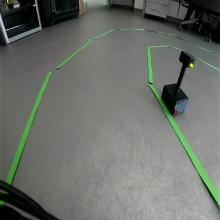green: (178, 50, 196, 69)
